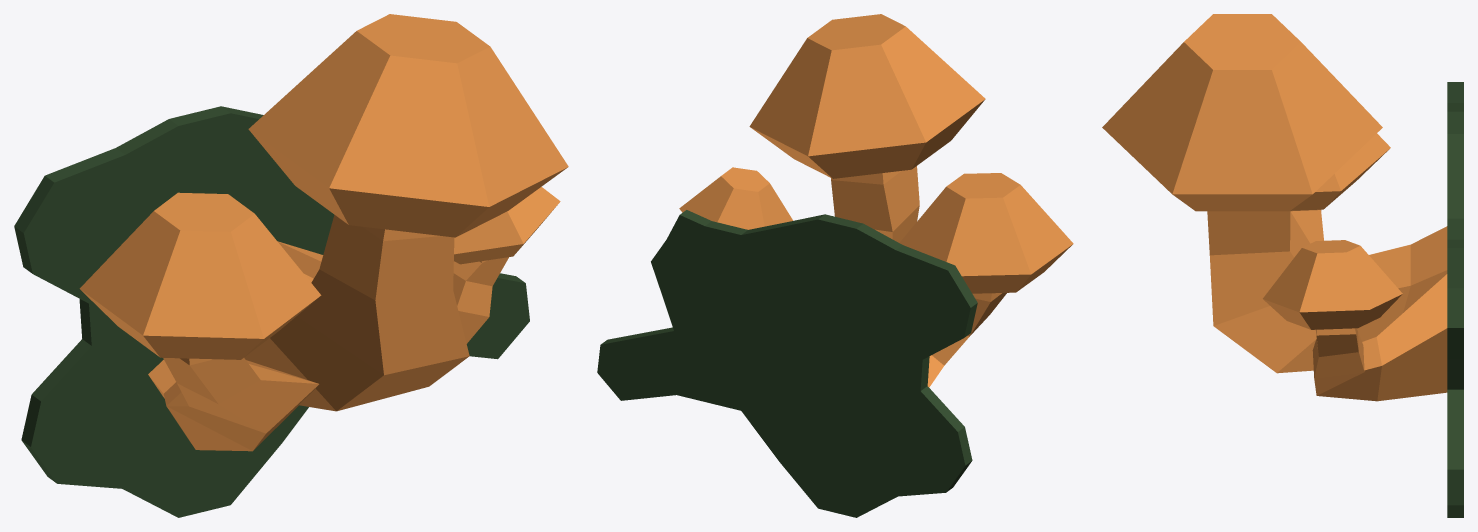
The model's file is Mushroom_wall.fbx.
3 renders of one model, left to right at view 1: azimuth 30°, elevation 25°; view 2: azimuth 150°, elevation 25°; view 3: azimuth 270°, elevation 25°, orthographic. The views are drawn at different scales.
Parts seen in each view (by area): view 1: 立方体, 平面.001; view 2: 平面.001, 立方体; view 3: 立方体, 平面.001.
Part boxes in pixels (x1,y1,x2,y2): 立方体: (79, 14, 568, 451); 平面.001: (14, 106, 529, 517); 平面.001: (597, 210, 977, 517); 立方体: (679, 14, 1073, 387); 立方体: (1102, 14, 1447, 401); 平面.001: (1447, 82, 1463, 517).
Bounding box in the file's own units: 564 × 568 × 395.
